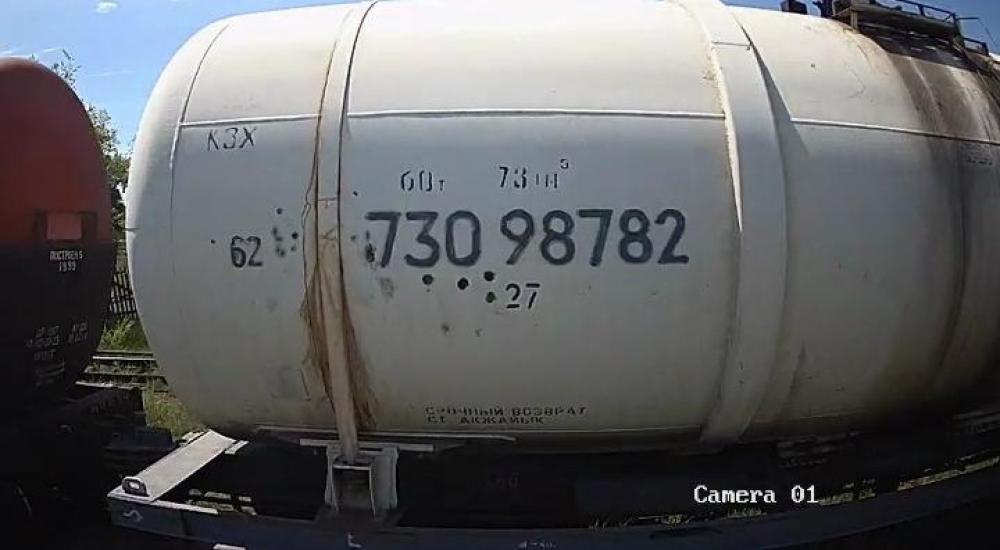Wagon-number: (362, 204, 692, 271)
